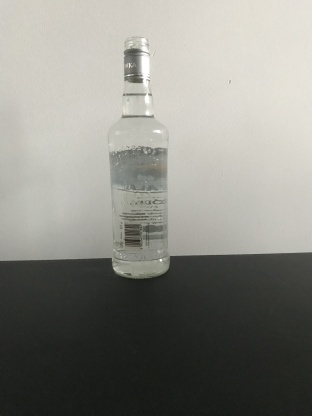nakretka: (121, 35, 152, 83)
